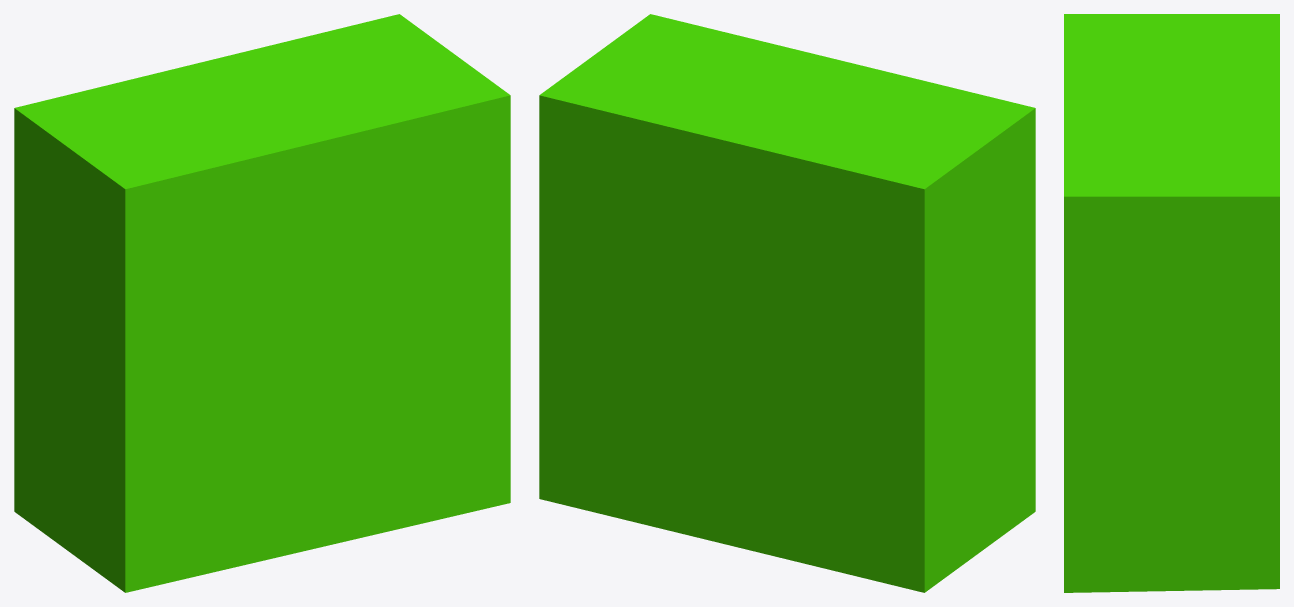
Rendered from Playergym54.fbx.
3 renders of one model, left to right at view 1: azimuth 30°, elevation 25°; view 2: azimuth 150°, elevation 25°; view 3: azimuth 270°, elevation 25°, orthographic. The views are drawn at different scales.
Parts seen in each view (by area): view 1: Cube.053; view 2: Cube.053; view 3: Cube.053.
Part boxes in pixels (box(x1,y1,x2,y2)): Cube.053: box(14, 14, 510, 592); Cube.053: box(539, 14, 1035, 592); Cube.053: box(1064, 14, 1279, 592).
Size of the model in its own units: 200 by 203 by 100.
